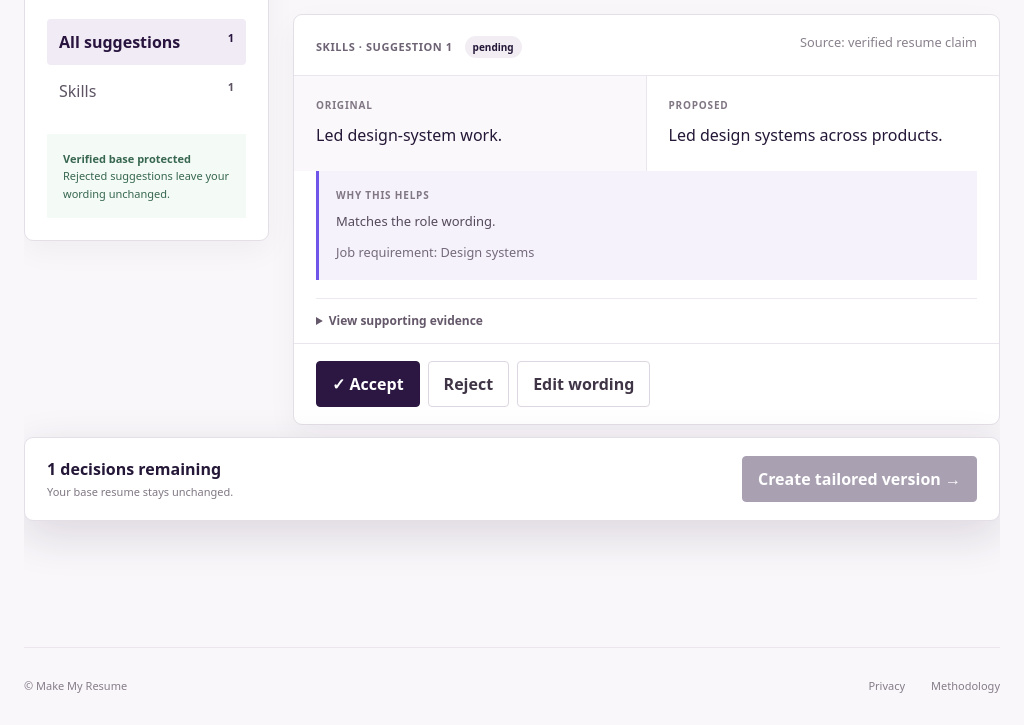
Test: tailoring workflow › requires every suggestion decision before creating a tailored version
(page scrolled)
Check: the button "Create tailored version →" is disabled, box 742,456 -> 977,502
Click the button "✓ Accept" at (368, 384), box 316,361 -> 420,407
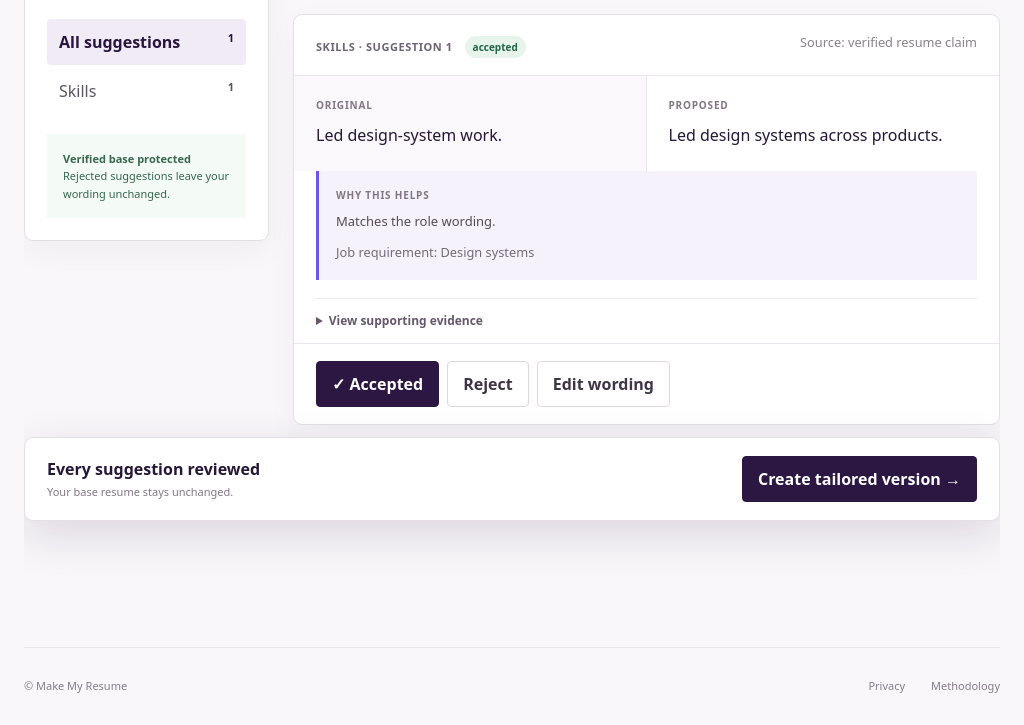
Check: the button "Create tailored version →" is enabled, box 742,456 -> 977,502
